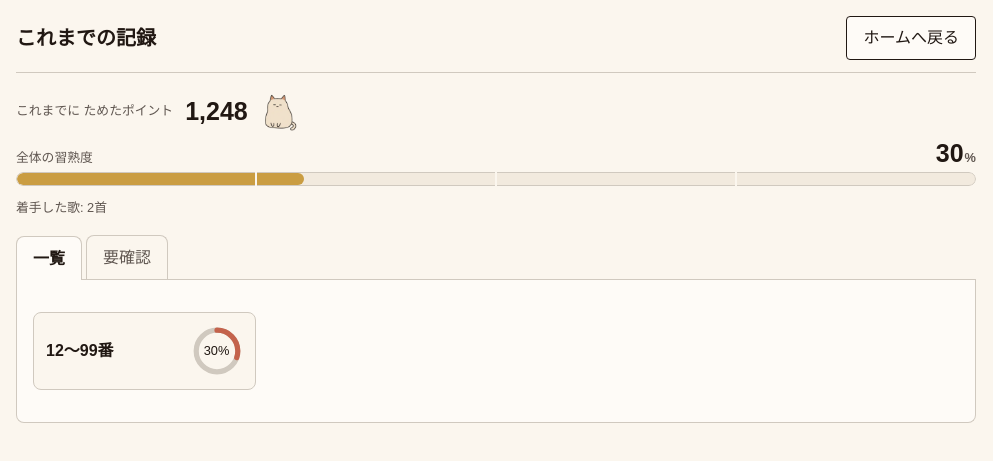
Test: history: 要確認なしの文言を表示する
This screenshot has width=993, height=461.
Click the tab "要確認" at (127, 257), box 86,235 -> 168,279
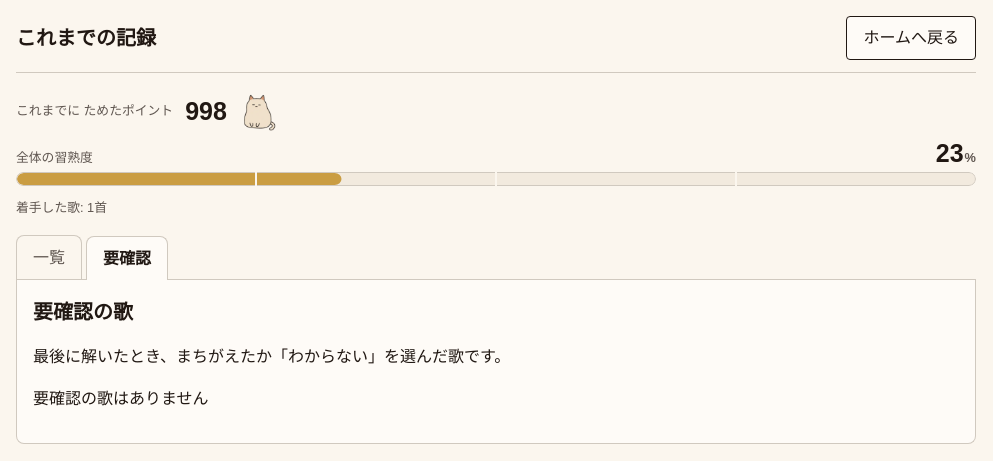
Check: the text "要確認の歌はありません" is shown, box 33,390 -> 208,406
